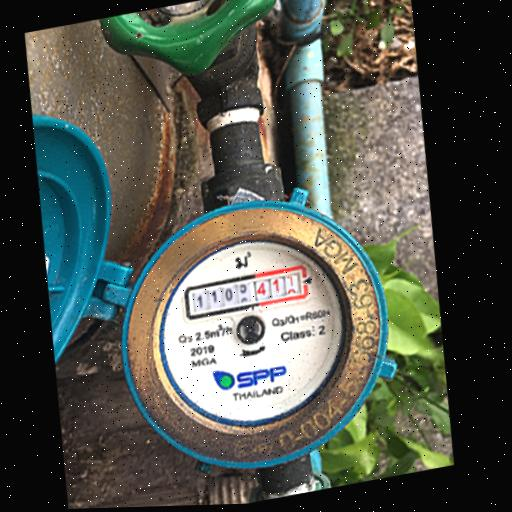0: (222, 284, 238, 306)
1: (269, 276, 286, 298), (192, 291, 208, 312), (284, 274, 300, 295), (207, 289, 223, 309)
4: (253, 279, 271, 301)
5: (236, 283, 252, 304)
border_water_meter_number: (181, 264, 311, 321)
